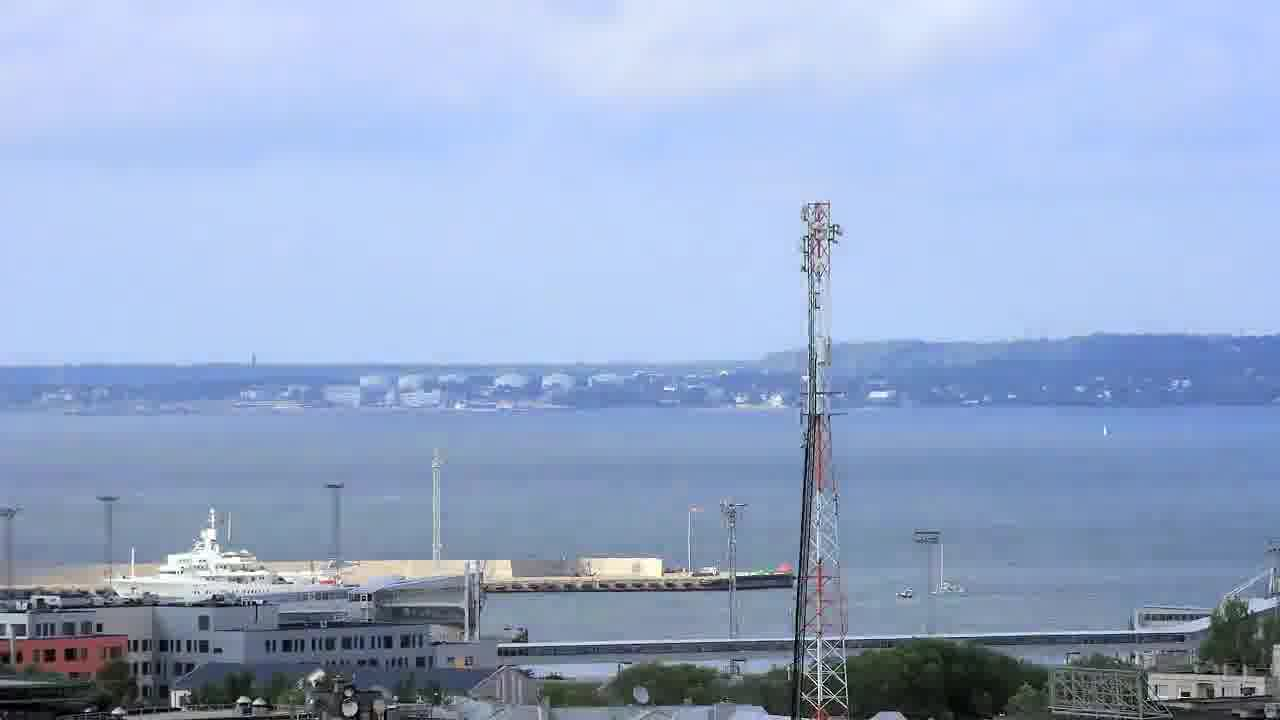type-0: (894, 551, 974, 599)
type-3: (72, 492, 370, 608)
